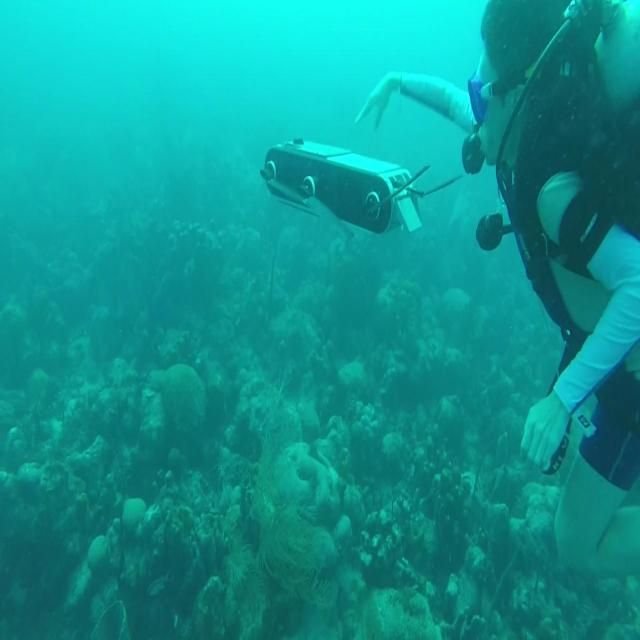human: (354, 0, 639, 580)
